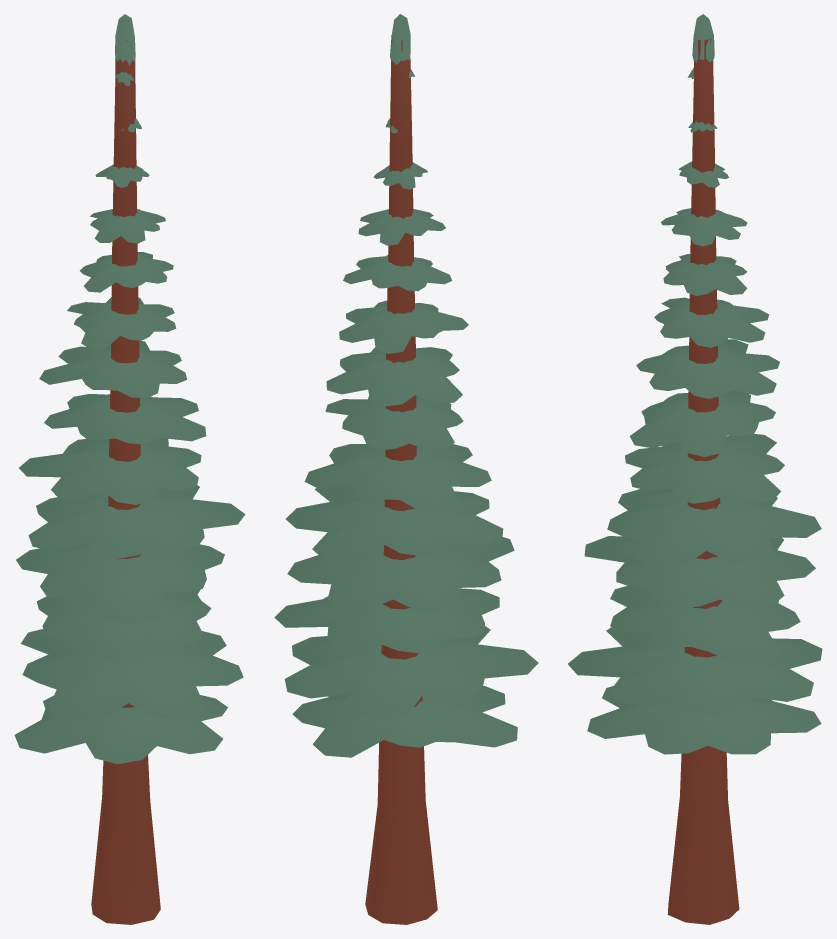
Rendered from Blender_RedFir_1.glb.
3 views of the same model, side by side, from view 1: azimuth 30°, elevation 25°; view 2: azimuth 150°, elevation 25°; view 3: azimuth 270°, elevation 25° (orthographic).
Parts seen in each view (by area): view 1: Blender_RedFir_1; view 2: Blender_RedFir_1; view 3: Blender_RedFir_1.
Part boxes in pixels (x1,y1,x2,y2): Blender_RedFir_1: (14, 14, 245, 924); Blender_RedFir_1: (274, 14, 538, 924); Blender_RedFir_1: (568, 14, 822, 924).
Bounding box in the file's own units: 9.31 × 37.41 × 9.66.
